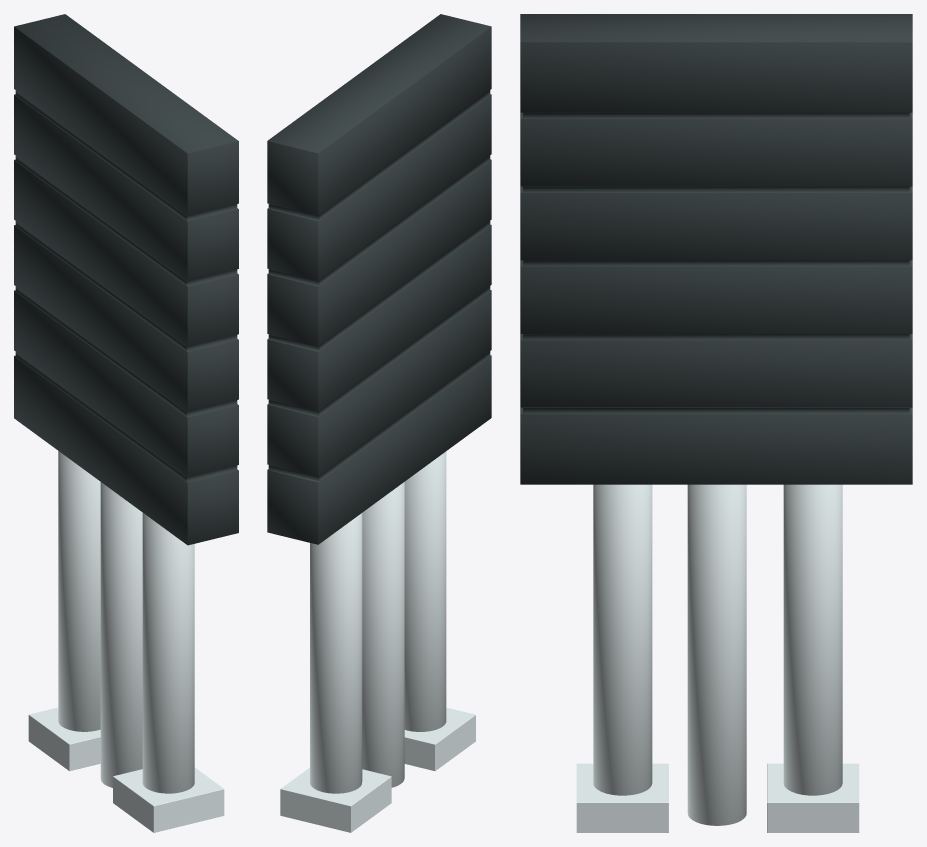
File: PipeBoxComponent.fbx
3 renders of one model, left to right at view 1: azimuth 30°, elevation 25°; view 2: azimuth 150°, elevation 25°; view 3: azimuth 270°, elevation 25°, orthographic. The views are drawn at different scales.
Visible parts, largest first — view 1: Cylinder.008; view 2: Cylinder.008; view 3: Cylinder.008.
Boxes of the visible parts, x1=… form: Cylinder.008: x1=14, y1=14, x2=238, y2=832; Cylinder.008: x1=267, y1=14, x2=491, y2=832; Cylinder.008: x1=520, y1=14, x2=912, y2=832.
Size of the model in its own units: 21.17 by 199 by 89.94.
Materials: 1 (1 with a texture image).
